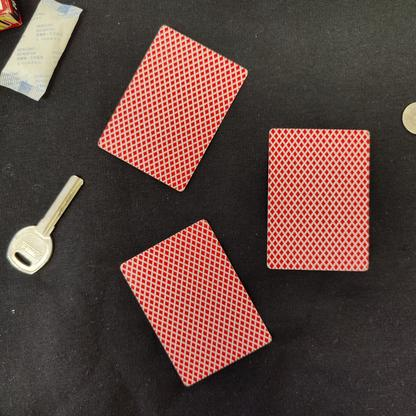card: (97, 15, 253, 198), (116, 215, 275, 393), (262, 122, 376, 279)
